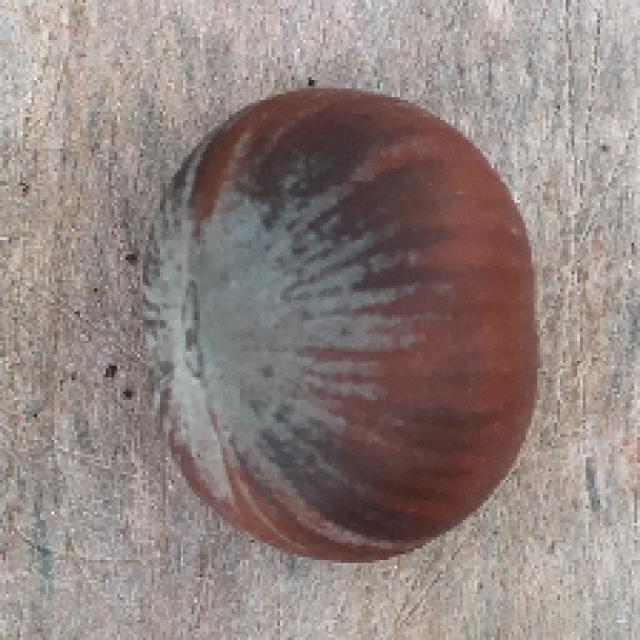damagedHazelnut: (127, 88, 537, 561)
